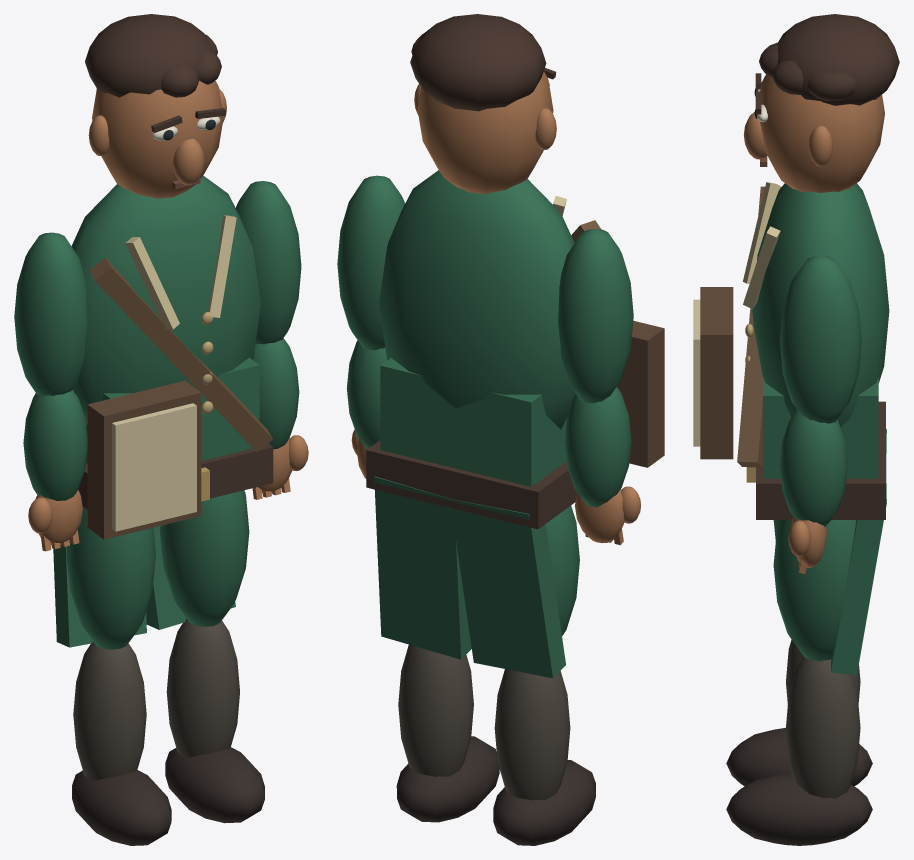
The model's file is truthwatcher.glb.
3 renders of one model, left to right at view 1: azimuth 30°, elevation 25°; view 2: azimuth 150°, elevation 25°; view 3: azimuth 270°, elevation 25°, orthographic. The views are drawn at different scales.
Visible parts, largest first — view 1: radiant_4_stone, shin_and_foot_stone (×2), face_and_hair_stone, thigh_stone (×2), upper_arm_stone (×2), order_equipment_stone, forearm_and_fingers_stone (×2), split_cloth_stone, radiant_4_metal; view 2: radiant_4_stone, split_cloth_stone, shin_and_foot_stone (×2), face_and_hair_stone, upper_arm_stone (×2), forearm_and_fingers_stone (×2), order_equipment_stone, thigh_stone; view 3: radiant_4_stone, face_and_hair_stone, shin_and_foot_stone (×2), upper_arm_stone, forearm_and_fingers_stone, thigh_stone, order_equipment_stone, split_cloth_stone.
Boxes of the visible parts, x1,y1,x2,y2 form: radiant_4_stone: [71, 175, 273, 509]; shin_and_foot_stone (×2): [72, 618, 264, 845]; face_and_hair_stone: [85, 14, 226, 198]; thigh_stone (×2): [66, 490, 249, 649]; upper_arm_stone (×2): [14, 181, 301, 395]; order_equipment_stone: [87, 380, 201, 539]; forearm_and_fingers_stone (×2): [23, 338, 308, 551]; split_cloth_stone: [53, 526, 235, 647]; radiant_4_metal: [201, 311, 213, 501]; radiant_4_stone: [366, 170, 601, 529]; split_cloth_stone: [374, 476, 565, 678]; shin_and_foot_stone (×2): [396, 644, 595, 845]; face_and_hair_stone: [410, 14, 556, 193]; upper_arm_stone (×2): [337, 175, 633, 403]; forearm_and_fingers_stone (×2): [346, 340, 640, 545]; order_equipment_stone: [617, 320, 664, 467]; thigh_stone: [545, 505, 579, 635]; radiant_4_stone: [737, 182, 889, 519]; face_and_hair_stone: [744, 14, 899, 192]; shin_and_foot_stone (×2): [726, 640, 872, 845]; upper_arm_stone: [779, 255, 861, 423]; forearm_and_fingers_stone: [779, 410, 847, 573]; thigh_stone: [773, 520, 855, 661]; order_equipment_stone: [693, 287, 733, 459]; split_cloth_stone: [831, 429, 886, 675].
Bounding box in the file's own units: 0.684 × 1.86 × 0.437.
